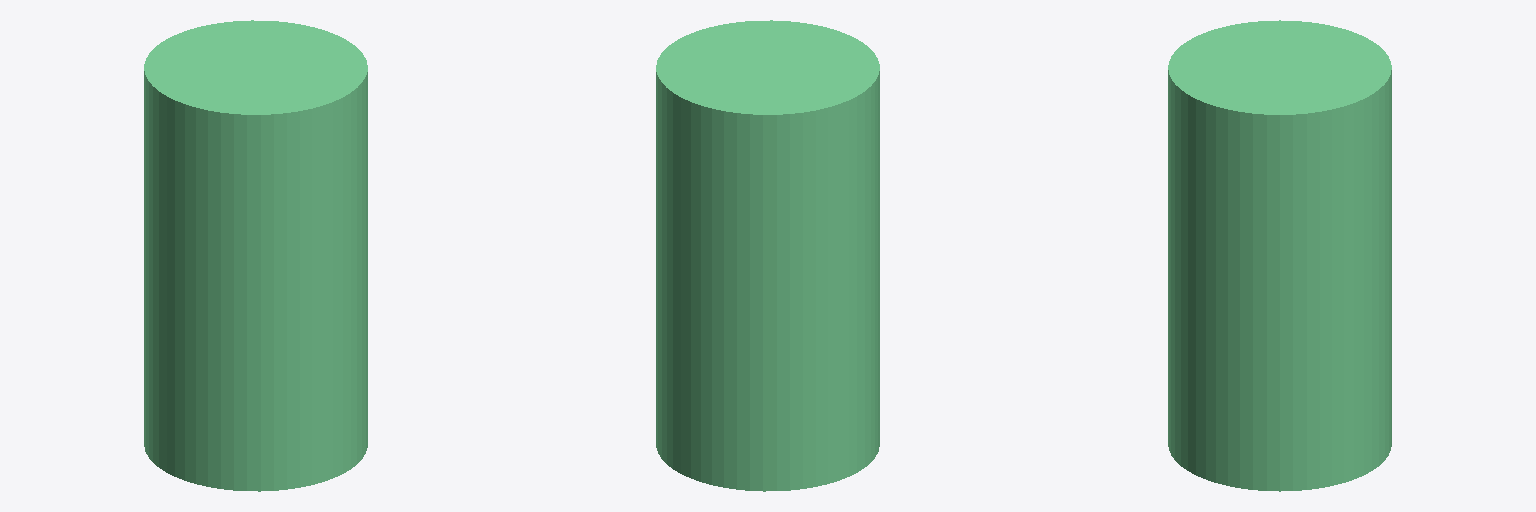
URDF robot description (GreenCylinder):
<?xml version="1.0" encoding="utf-8"?>
<!-- =================================================================================== -->
<!-- |    This document was autogenerated by xacro from GreenCylinder.xacro            | -->
<!-- |    EDITING THIS FILE BY HAND IS NOT RECOMMENDED                                 | -->
<!-- =================================================================================== -->
<robot name="GreenCylinder">
  <material name="gray">
    <color rgba="0.675 0.675 0.675 1.000"/>
  </material>
  <material name="off_white">
    <color rgba="0.961 0.961 0.953 1.000"/>
  </material>
  <material name="green">
    <color rgba="0.537 0.878 0.651 1.000"/>
  </material>
  <material name="blue">
    <color rgba="0.419 0.796 0.898 1.000"/>
  </material>
  <link name="base_link">
    <inertial>
      <origin rpy="0 0 0" xyz="0.0 0.04127499999999999 0.0"/>
      <mass value="1.0055881486229423"/>
      <inertia ixx="0.000695" ixy="0.0" ixz="-0.0" iyy="0.000248" iyz="0.0" izz="0.000695"/>
    </inertial>
    <visual>
      <origin rpy="1.5708 0 0" xyz="0.8 0.4 1.11125"/>
      <geometry>
        <mesh filename="package://cv_ur5_project/meshes/cylinder_link.stl" scale="0.001 0.001 0.001"/>
      </geometry>
      <material name="green"/>
    </visual>
    <collision>
      <origin rpy="1.5708 0 0" xyz="0.8 0.4 1.11125"/>
      <geometry>
        <mesh filename="package://cv_ur5_project/meshes/cylinder_link.stl" scale="0.001 0.001 0.001"/>
      </geometry>
    </collision>
  </link>
  <gazebo reference="base_link">
    <material>Gazebo/Green</material>
  </gazebo>
</robot>

--- Render facts (derived) ---
The picture shows the robot from 3 angles, left to right: view 1: azimuth 30°, elevation 25°; view 2: azimuth 150°, elevation 25°; view 3: azimuth 270°, elevation 25°; orthographic projection.
Model GreenCylinder with 1 links and 0 joints (none), rooted at base_link, posed every joint at zero.
Visible links, largest first — view 1: base_link; view 2: base_link; view 3: base_link.
Link boxes in pixels (left/top/right/bottom): base_link: left=144, top=20, right=367, bottom=491; base_link: left=656, top=20, right=879, bottom=491; base_link: left=1168, top=20, right=1391, bottom=491.
Size in the robot's own frame: 0.0444 by 0.0445 by 0.0826 metres.
Meshes: 1 distinct files referenced, 1 mesh visuals loaded (1 binary STL).